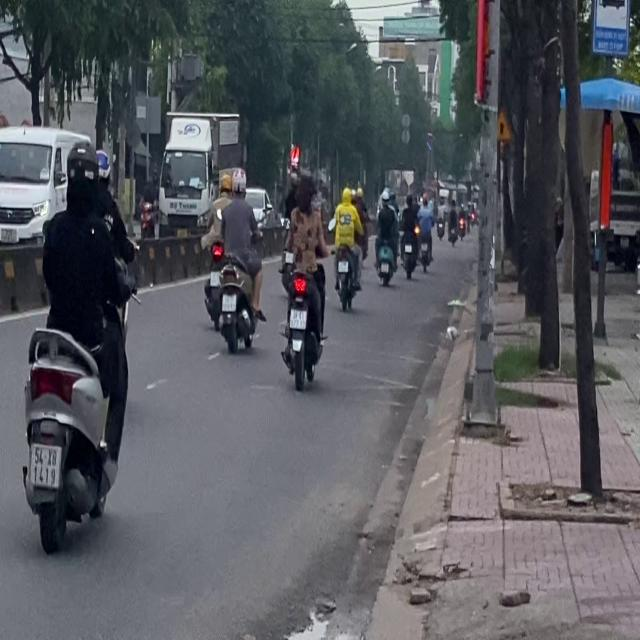helmet: (64, 140, 98, 203), (95, 148, 110, 183), (230, 167, 247, 196)
licenseplate: (17, 134, 134, 553), (277, 167, 328, 389), (215, 167, 264, 353)
motorcyclist: (294, 175, 313, 210)
nohelmet: (29, 444, 60, 486), (290, 309, 306, 328), (222, 295, 236, 311)
